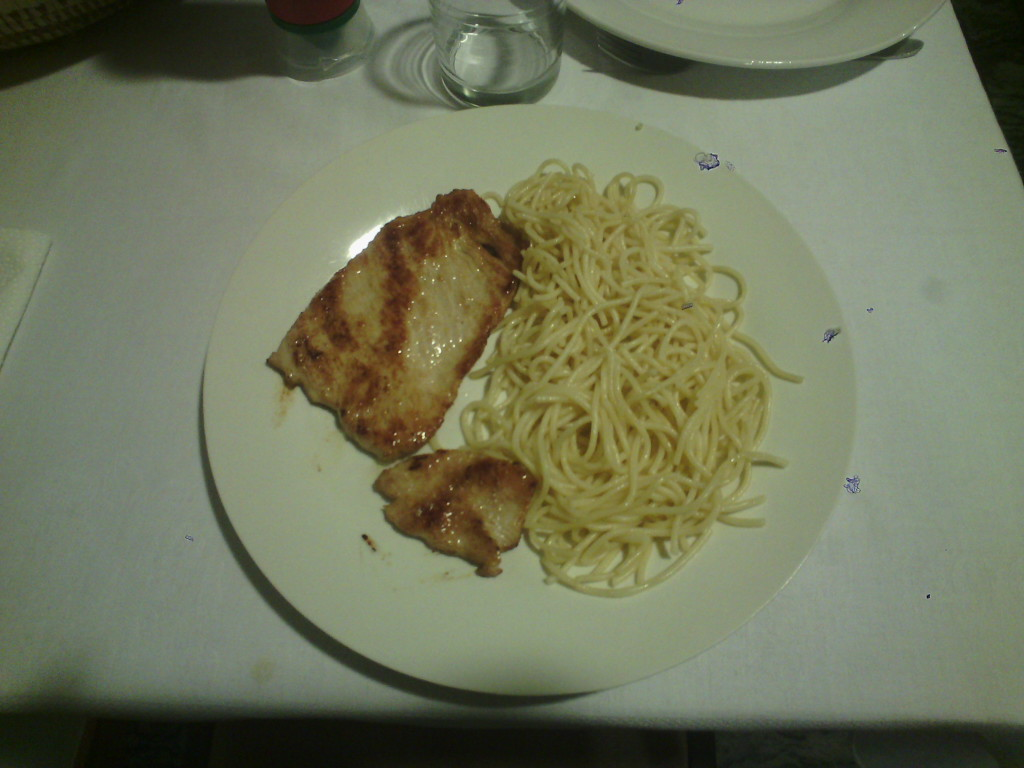81-100: (202, 102, 858, 699)
